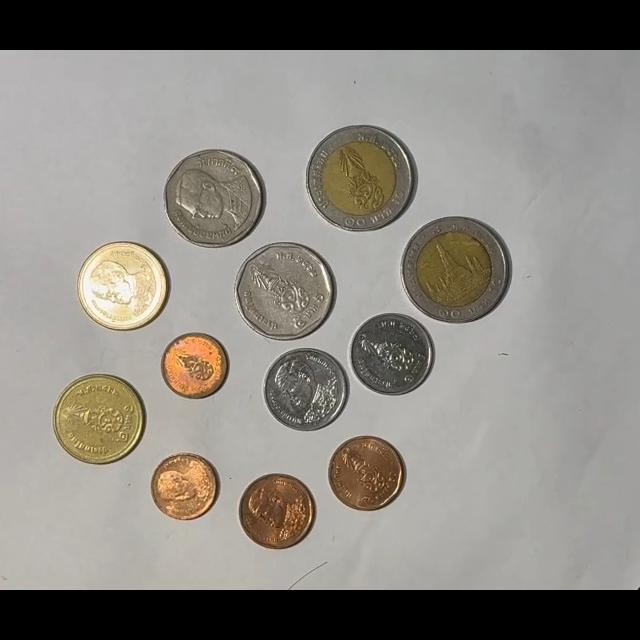1-baht: (262, 348, 347, 432), (350, 312, 434, 396)
10-baht: (305, 125, 415, 233), (401, 216, 511, 323)
2-baht: (53, 373, 146, 465), (77, 241, 168, 332)
25-satang: (151, 452, 221, 522), (162, 332, 229, 399)
5-baht: (163, 149, 265, 249), (235, 242, 335, 342)
50-satang: (238, 473, 316, 551), (328, 435, 405, 512)
